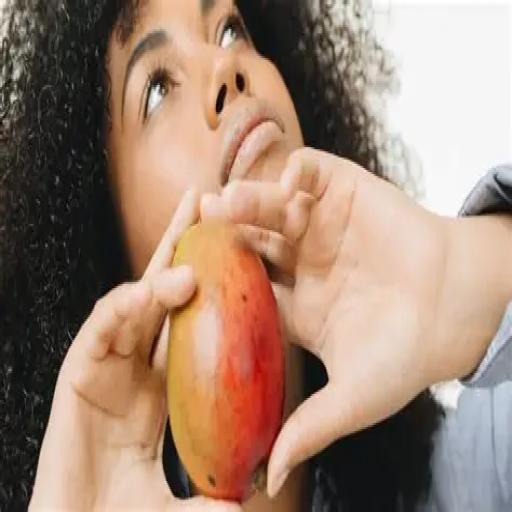mango: (168, 220, 285, 501)
